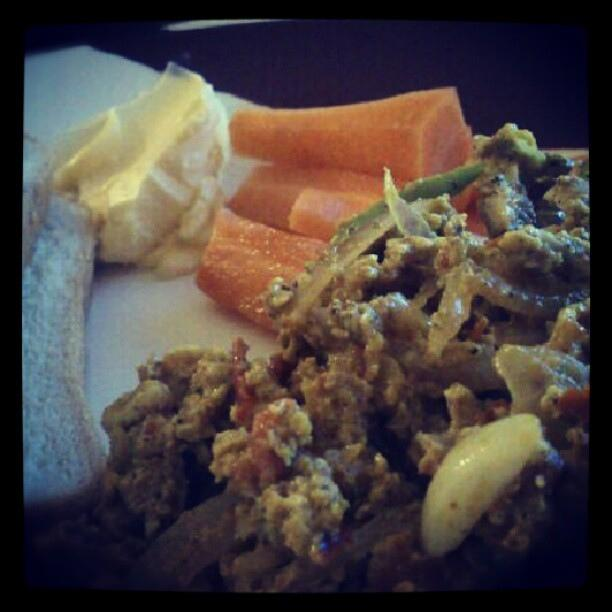carrot: (227, 88, 472, 178), (197, 208, 324, 333), (225, 165, 383, 243)
